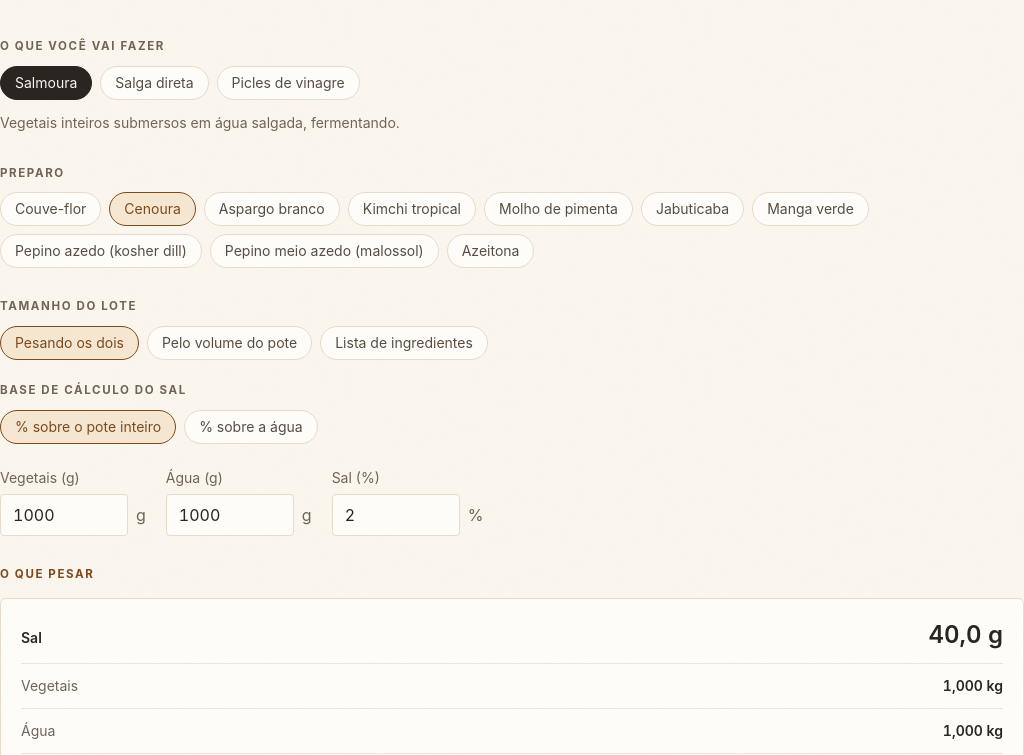
calculadora de picles › troca para salga direta e some com o campo de água
Click the button "Salga direta" at point(154, 83), box [100,66,209,100]
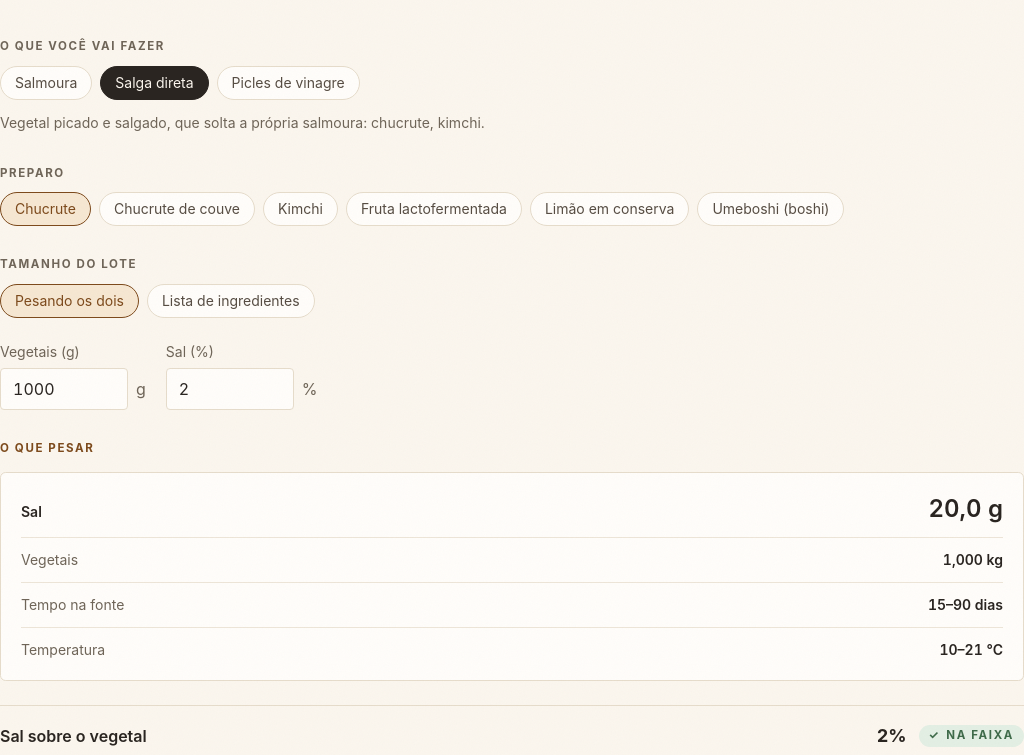
Check: the button "Chucrute" is shown, box [0,192,91,226]
Check: the label labelled "Água (g)" is gone
